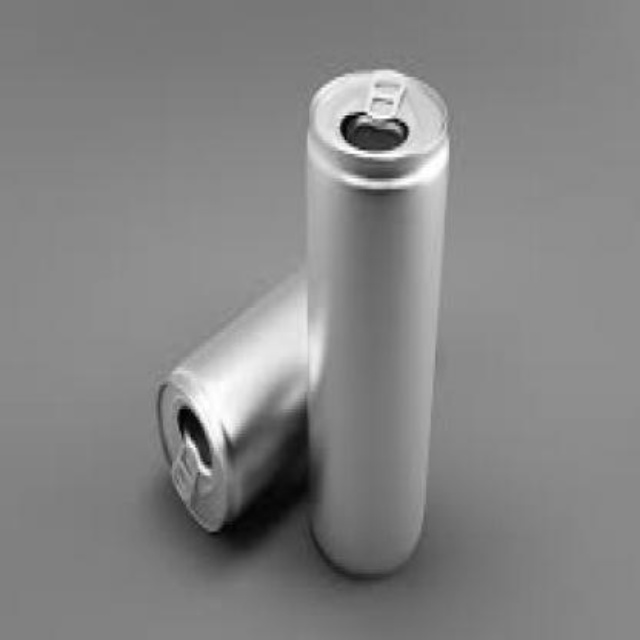trash: (157, 69, 448, 574), (308, 69, 448, 574), (157, 272, 306, 531)
